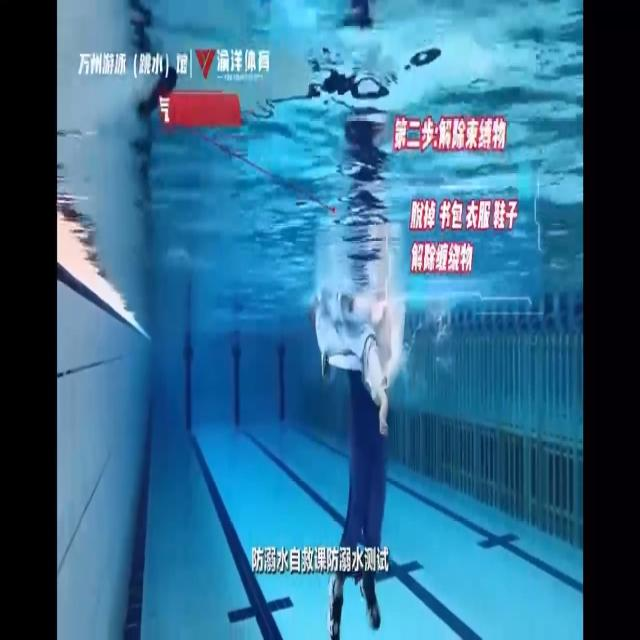Drowning: (324, 301, 407, 639)
